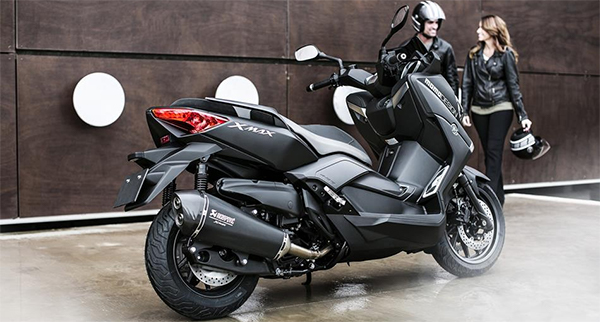helmet: (505, 126, 554, 164), (411, 1, 445, 33)
motorcycle: (123, 3, 507, 319)
